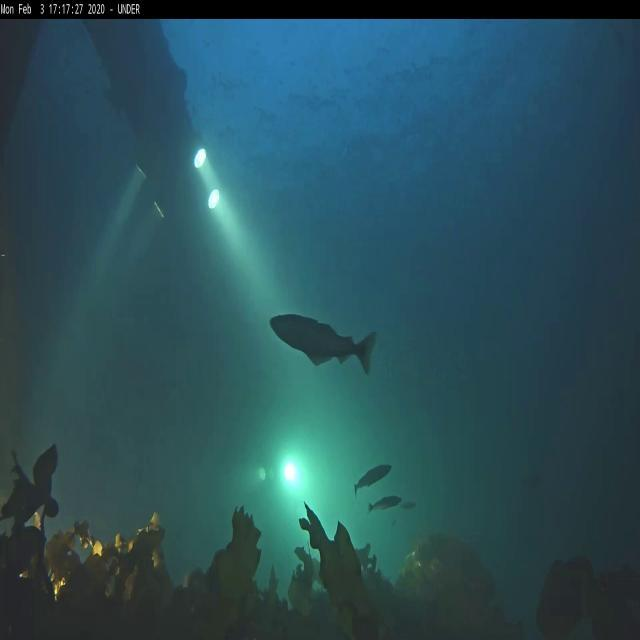fish: (271, 312, 374, 372), (354, 465, 392, 490), (368, 496, 402, 511), (402, 498, 418, 511)
